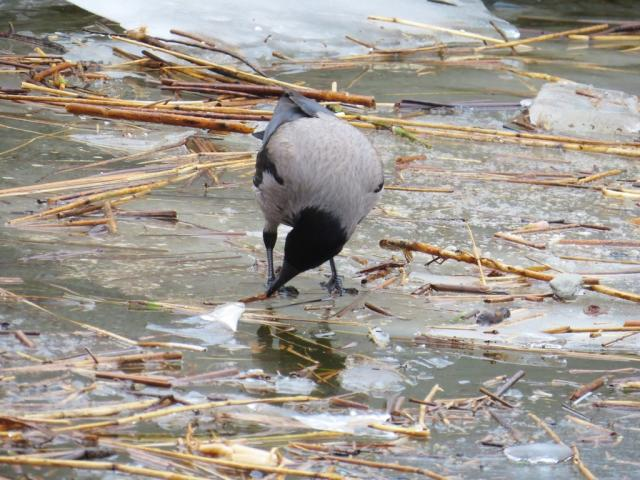Bird: (250, 84, 386, 299)
